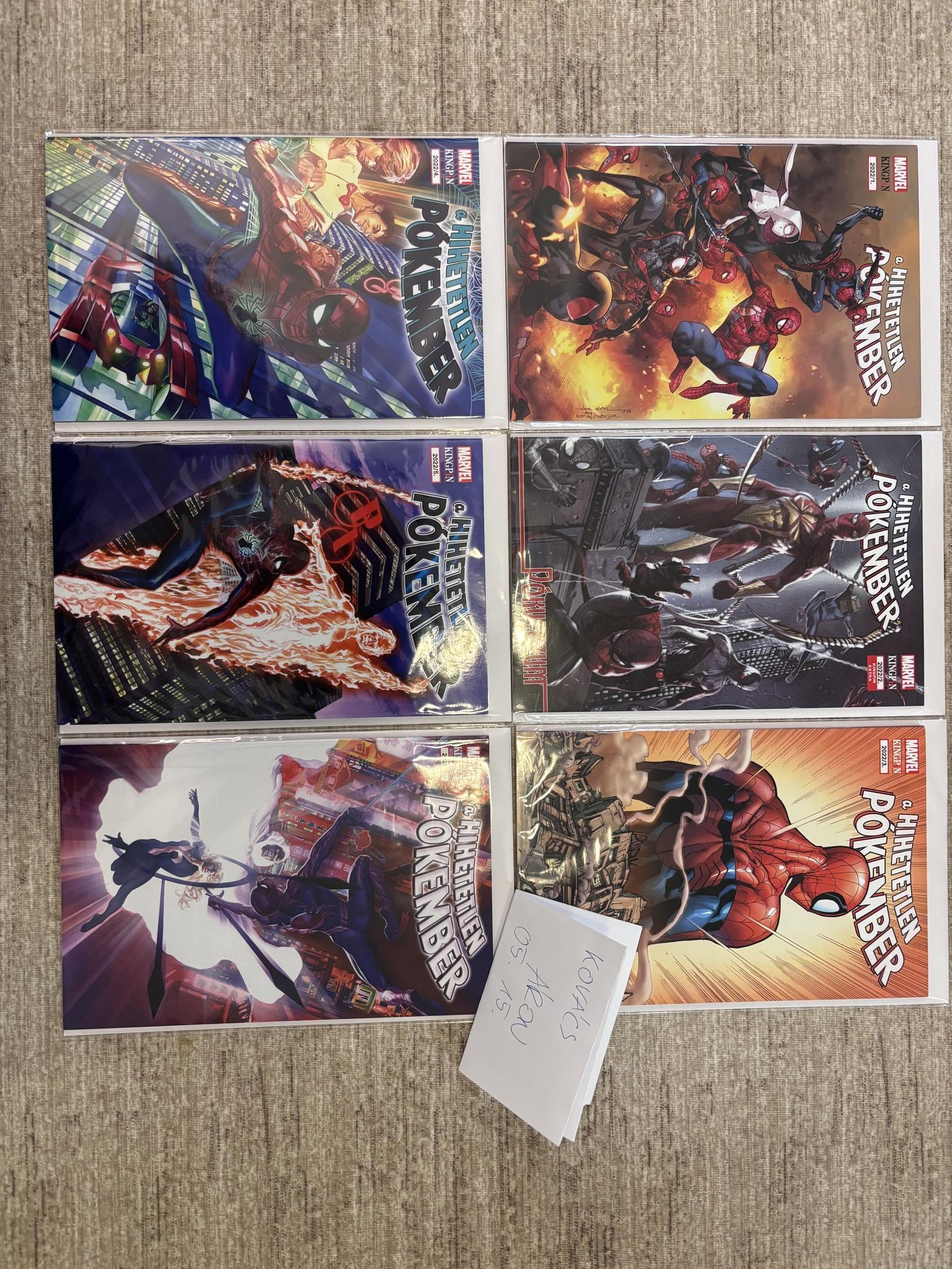comic: (54, 728, 499, 1031), (51, 434, 497, 728), (46, 133, 485, 427), (514, 721, 949, 1009), (505, 138, 939, 423), (511, 432, 941, 713)
